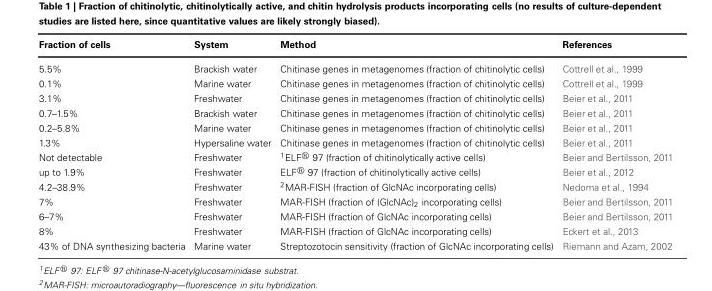table: (37, 37, 672, 251)
table column: (274, 37, 557, 251), (37, 37, 188, 251), (557, 37, 672, 251), (188, 37, 274, 251)
table column header: (37, 37, 672, 55)
table row: (37, 55, 672, 75), (37, 37, 672, 55), (37, 162, 672, 178), (37, 75, 672, 90), (37, 90, 672, 105), (37, 119, 672, 134), (37, 178, 672, 193), (37, 193, 672, 208), (37, 208, 672, 223), (37, 105, 672, 119), (37, 134, 672, 148), (37, 148, 672, 162), (37, 223, 672, 237), (37, 237, 672, 251)
